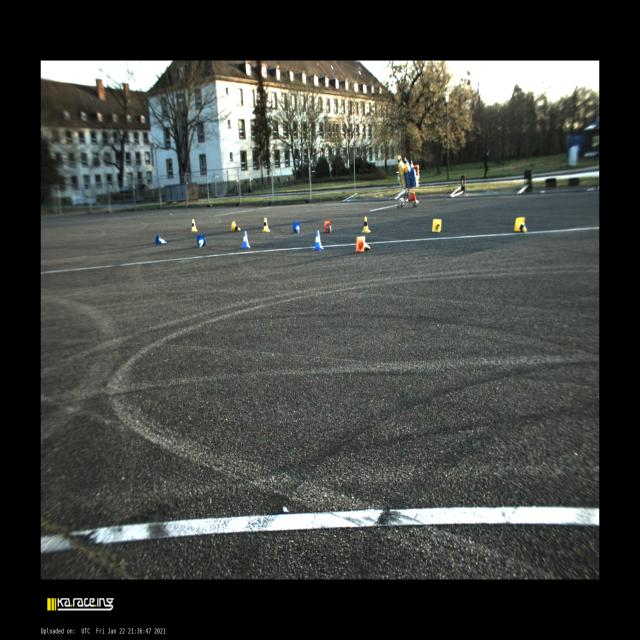blue_cone: (312, 230, 324, 250), (242, 231, 250, 249), (155, 235, 167, 245), (197, 234, 206, 247), (293, 222, 300, 232)
orange_cone: (356, 236, 370, 252), (325, 221, 332, 233)
yellow_cone: (514, 218, 527, 232), (361, 216, 371, 232), (432, 219, 442, 232), (262, 218, 270, 232), (231, 221, 240, 232), (191, 219, 197, 232)
